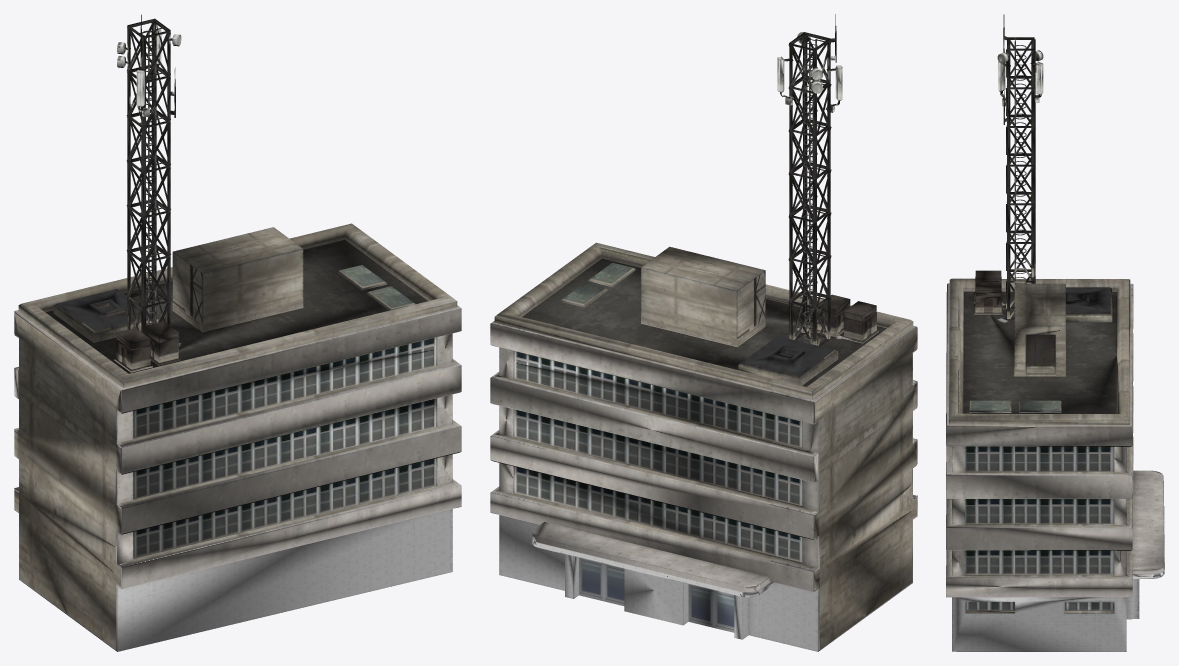
The model's file is bld22_20a.glb.
The picture shows the model from 3 angles, left to right: view 1: azimuth 30°, elevation 25°; view 2: azimuth 150°, elevation 25°; view 3: azimuth 270°, elevation 25°; orthographic projection. The views are drawn at different scales.
Parts seen in each view (by area): view 1: bld22_20a; view 2: bld22_20a; view 3: bld22_20a.
Boxes of the visible parts, left/top/right/bottom form: bld22_20a: left=14, top=14, right=461, bottom=651; bld22_20a: left=490, top=14, right=917, bottom=651; bld22_20a: left=946, top=14, right=1164, bottom=651.
Size of the model in its own units: 38.97 by 66.12 by 25.22.
Materials: 1 (1 with a texture image).
